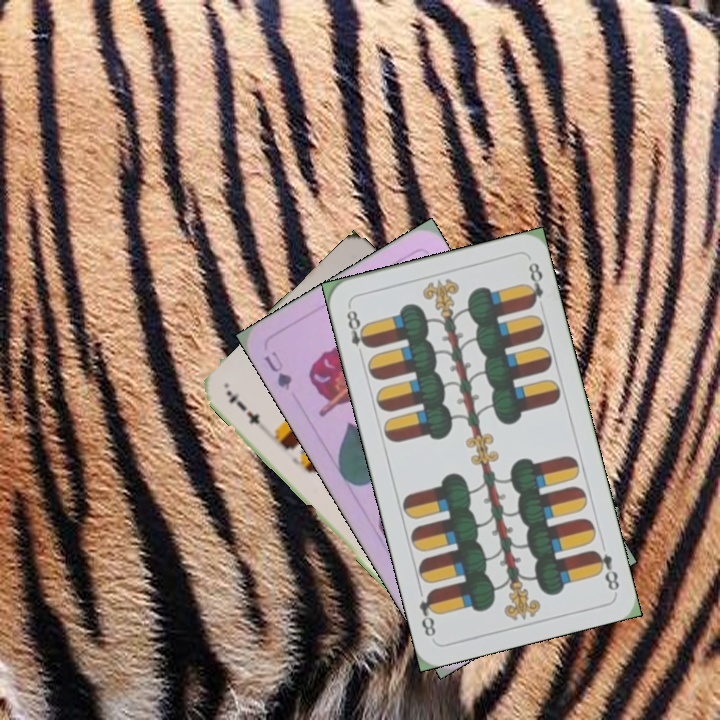E7: (222, 386, 263, 428)
E8: (342, 302, 373, 360), (588, 546, 622, 593)
GU: (260, 347, 295, 393)
